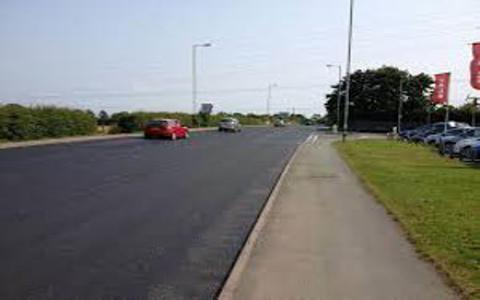Proper road: (23, 148, 232, 263)
